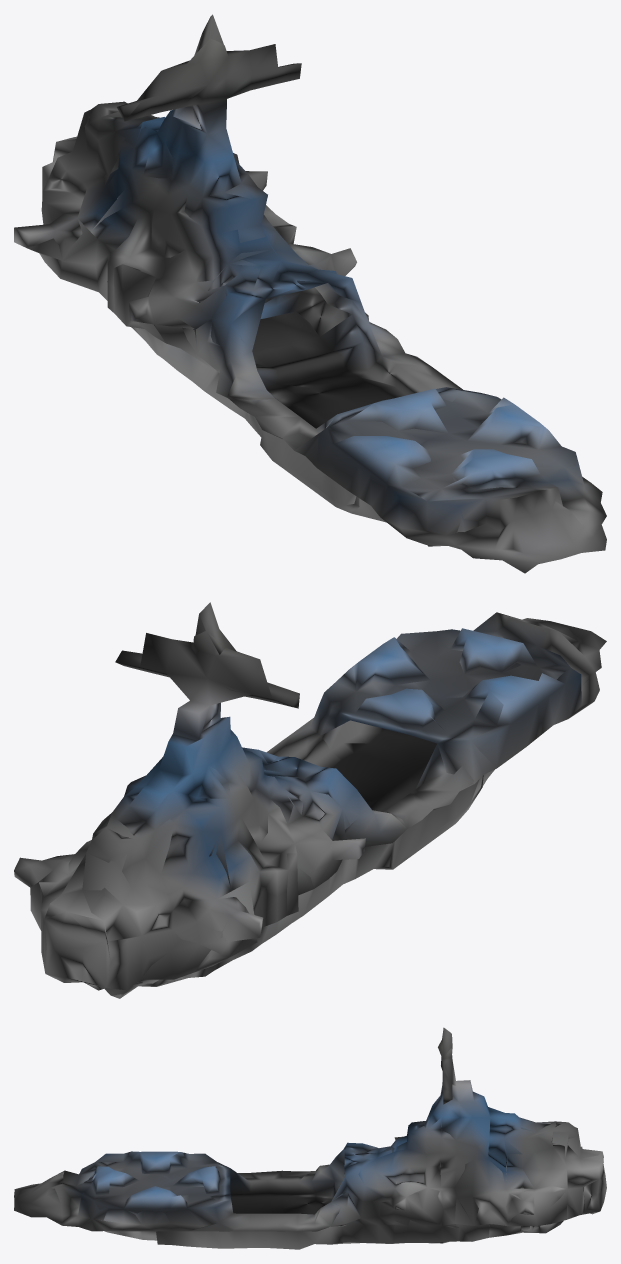
Rendered from aircraft_carrier.glb.
The picture shows the model from 3 angles, top to bottom: view 1: azimuth 30°, elevation 25°; view 2: azimuth 150°, elevation 25°; view 3: azimuth 270°, elevation 25°; orthographic projection. The views are drawn at different scales.
Parts seen in each view (by area): view 1: aircraft_carrier; view 2: aircraft_carrier; view 3: aircraft_carrier.
Boxes of the visible parts, x1,y1,x2,y2 form: aircraft_carrier: (14,14,606,573); aircraft_carrier: (14,602,606,998); aircraft_carrier: (14,1027,606,1249).
Size of the model in its own units: 3.44 by 4.54 by 11.79.
